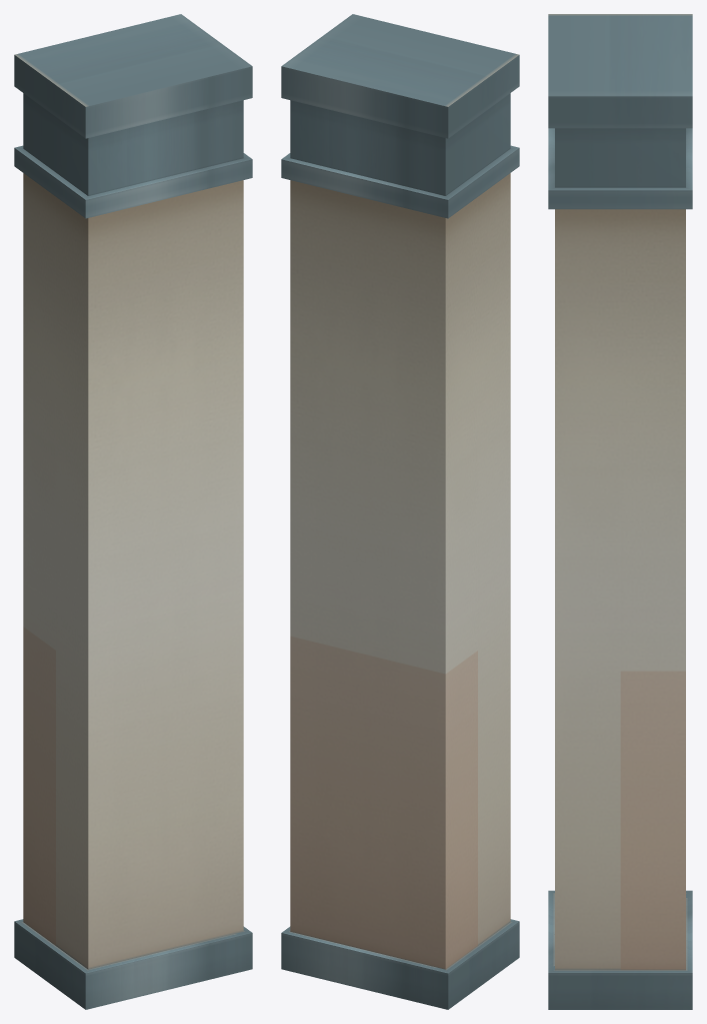
File: SHW_Pillar_01_01.fbx
3 views of the same model, side by side, from view 1: azimuth 30°, elevation 25°; view 2: azimuth 150°, elevation 25°; view 3: azimuth 270°, elevation 25° (orthographic).
Parts seen in each view (by area): view 1: shw_pillar_01_01; view 2: shw_pillar_01_01; view 3: shw_pillar_01_01.
Part boxes in pixels (box(x1,y1,x2,y2)): shw_pillar_01_01: box(14, 14, 252, 1009); shw_pillar_01_01: box(281, 14, 519, 1009); shw_pillar_01_01: box(548, 14, 692, 1009).
Bounding box in the file's own units: 58 × 300 × 43.
